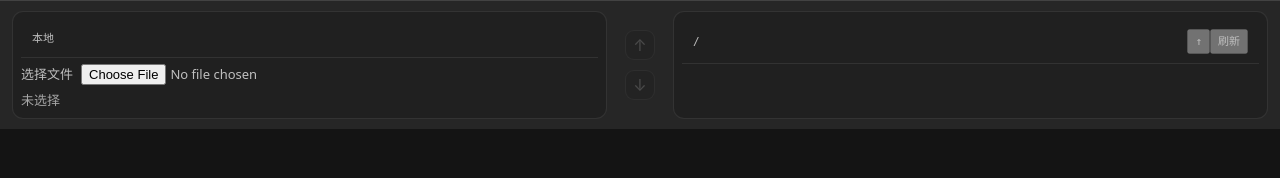
The directory navigation of the FileBrowser (second review, S-08) › clicking a directory enters it, it does not select it
Step 1. Click the button with test id "remote-refresh" → (1229, 42), box [1210, 29, 1248, 54]
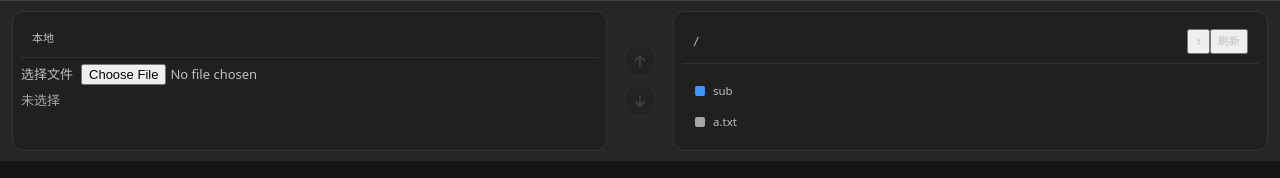
Step 2. Click the button "sub" → (700, 90), box [687, 75, 1254, 106]
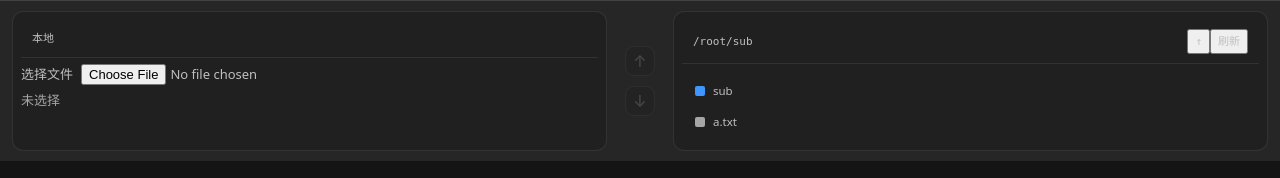
Check: the text with test id "remote-path" reads "/root/sub", box [693, 35, 753, 48]
